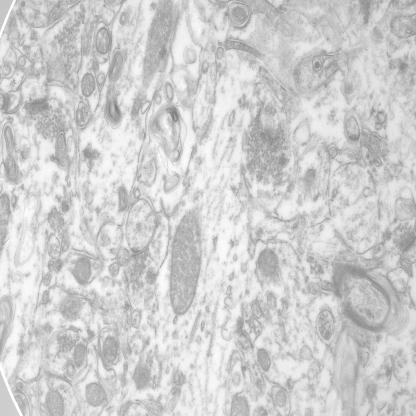mitochondria: (166, 211, 206, 320), (142, 0, 178, 94), (254, 249, 280, 280), (84, 379, 108, 412), (74, 254, 94, 289), (44, 386, 66, 416), (73, 99, 93, 131), (55, 131, 70, 172), (254, 344, 274, 374), (94, 25, 111, 59), (78, 70, 97, 100), (102, 334, 118, 367), (73, 340, 87, 370)
